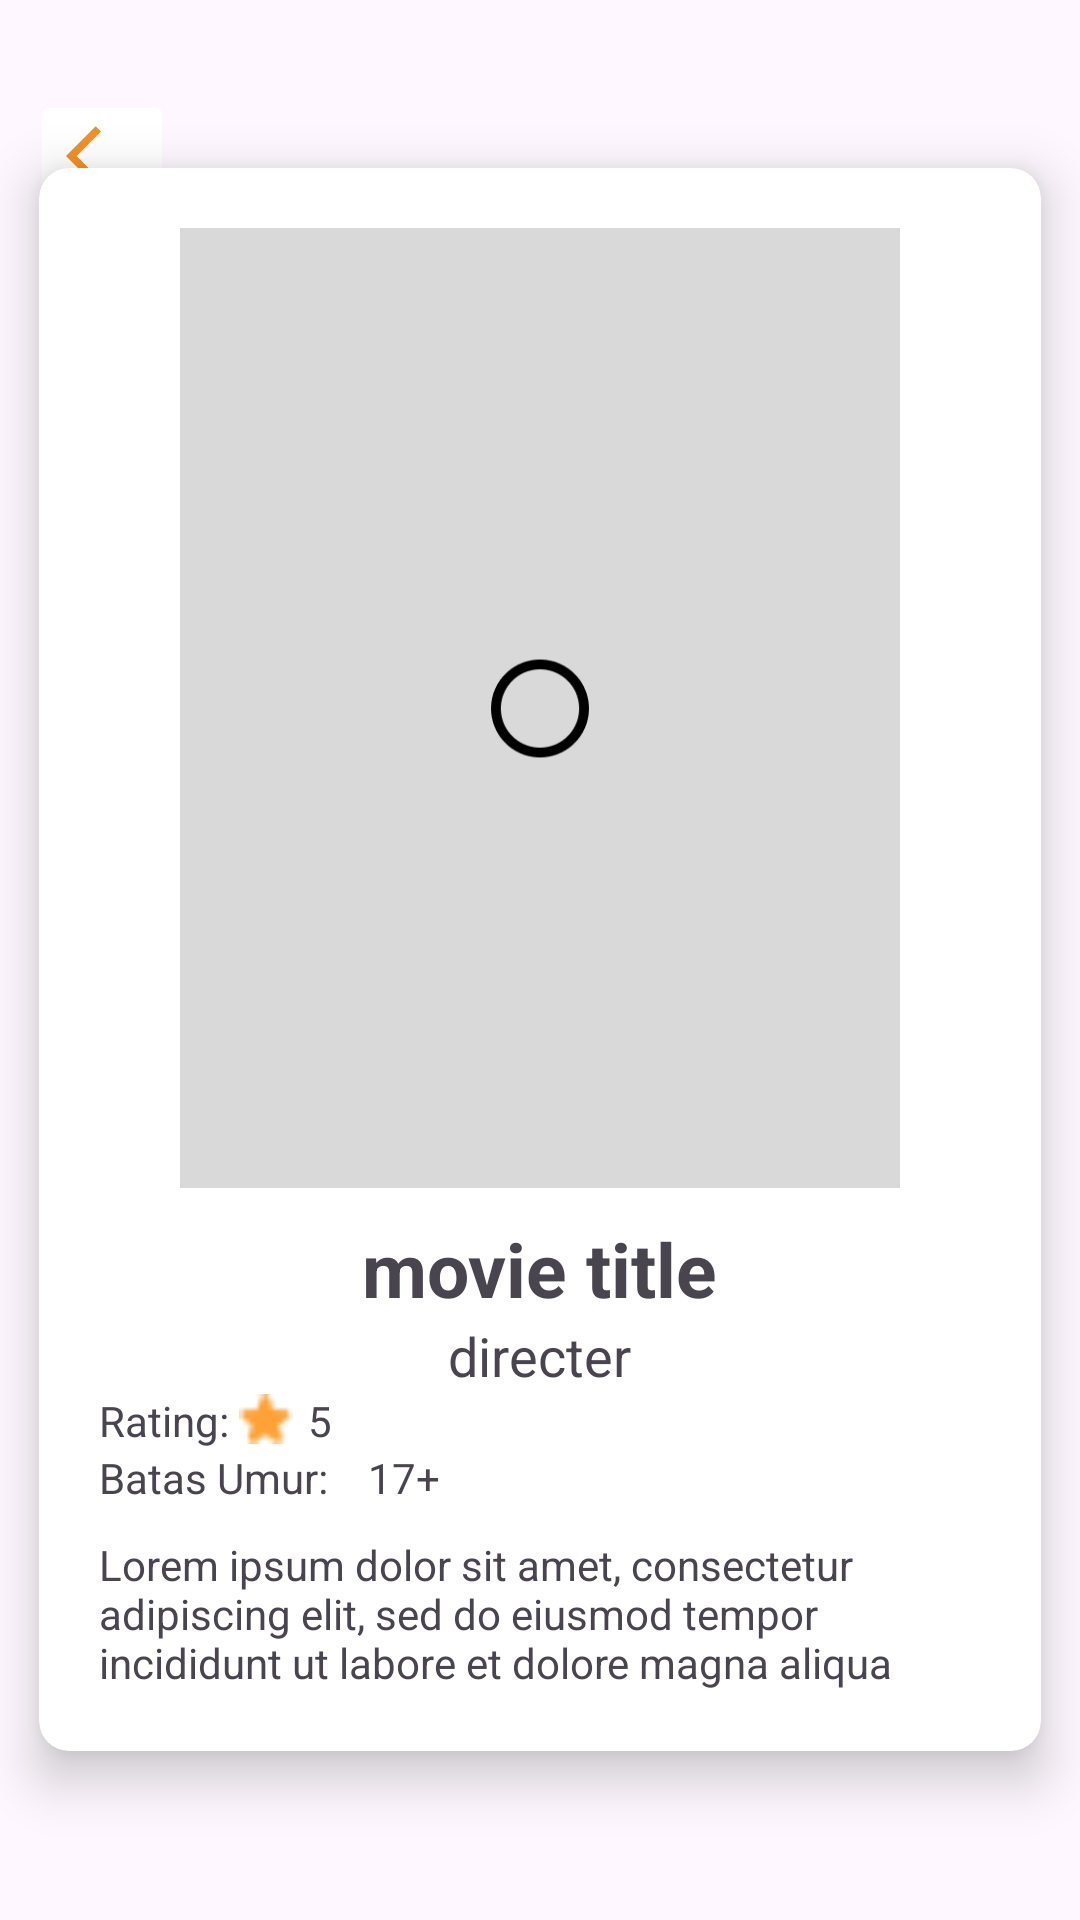

Point at icon controls on the screen. Image size 1080x1920, points as [x,y].
star: [266,1419]
